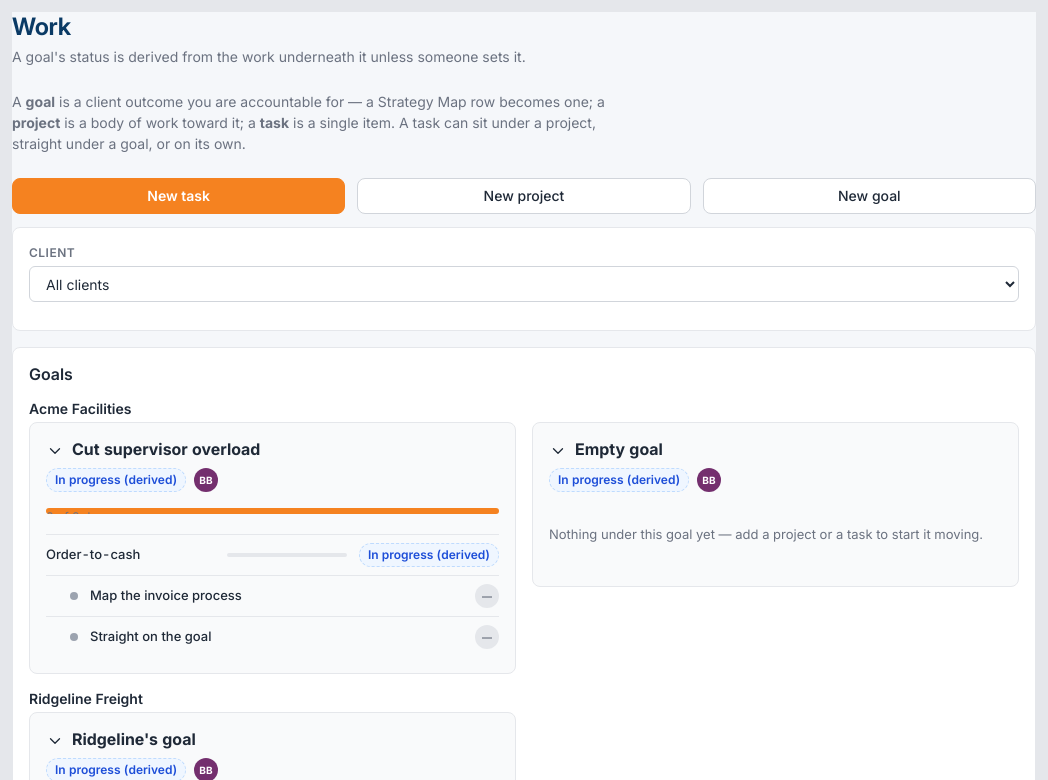
Test case: Work shows three levels at once, not one › collapses one goal without touching the other, and says what is hidden
The image size is (1048, 780).
Expected: the link "Order-to-cash" is shown, [46,546,140,562]
Click the button with aria-label "Collapse Cut supervisor overload": click(116, 480) [46,439,499,522]
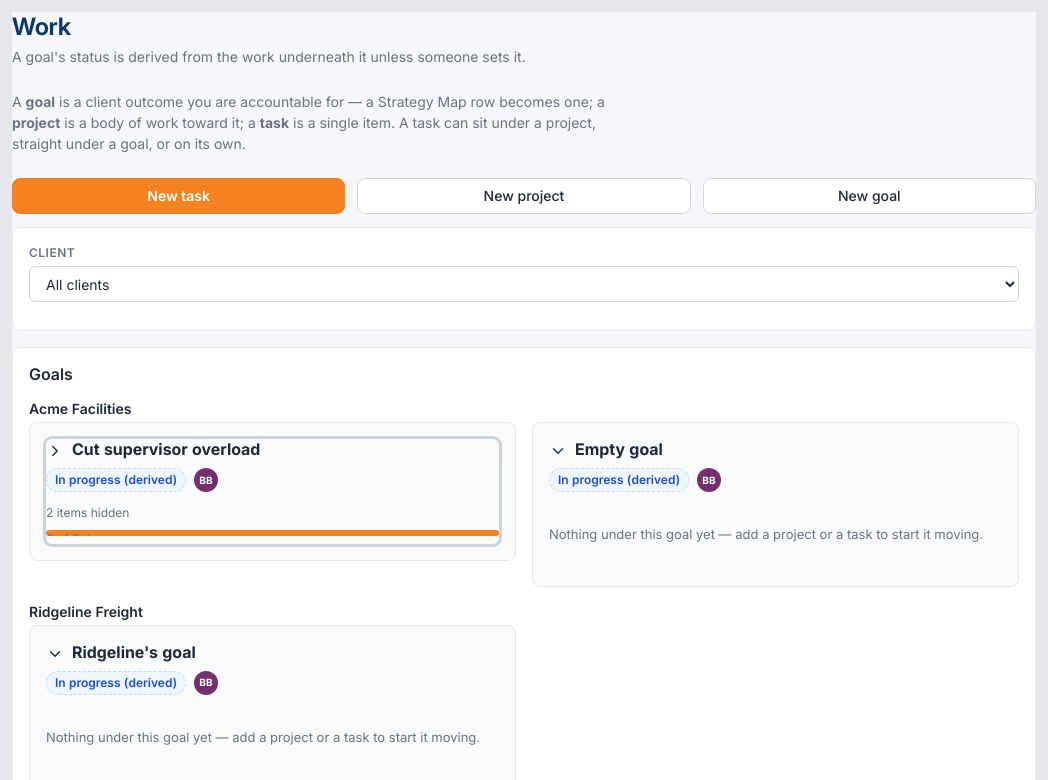
Expected: the link "Order-to-cash" is gone
Expected: the link "Map the invoice process" is gone
Expected: the list item "Cut supervisor overload" shows "2 items hidden", [29,422,516,561]
Click the button with aria-label "Expand Cut supervisor overload": click(116, 480) [46,439,499,544]
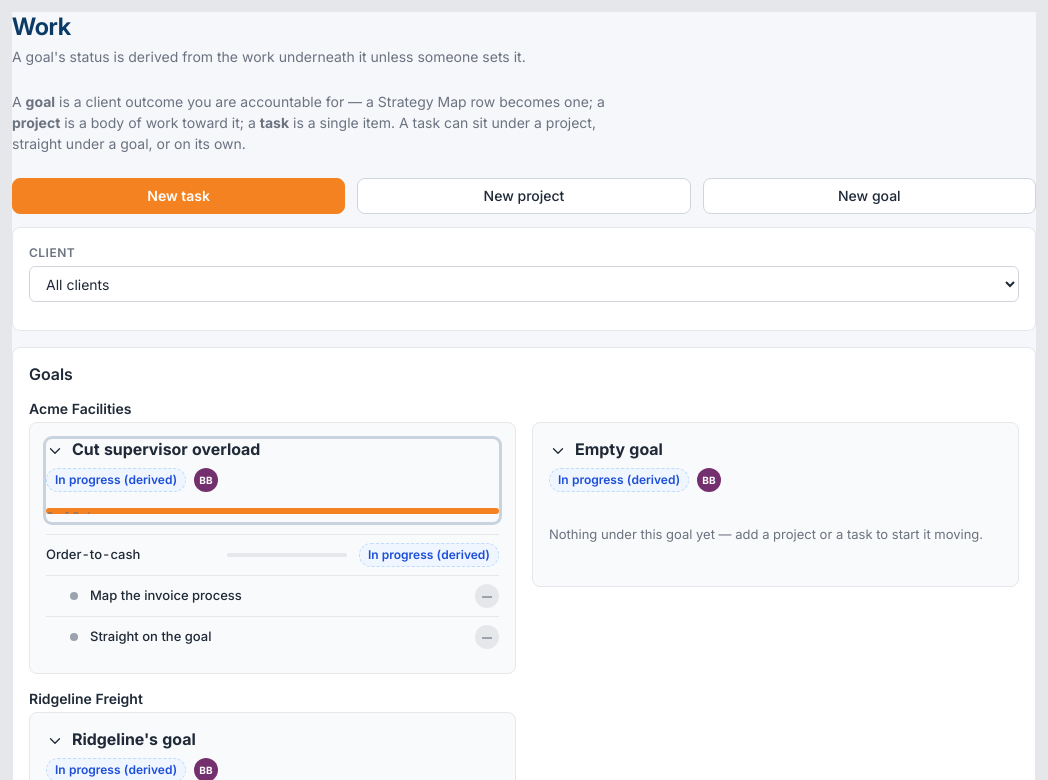
Expected: the link "Order-to-cash" is shown, [46,546,140,562]
